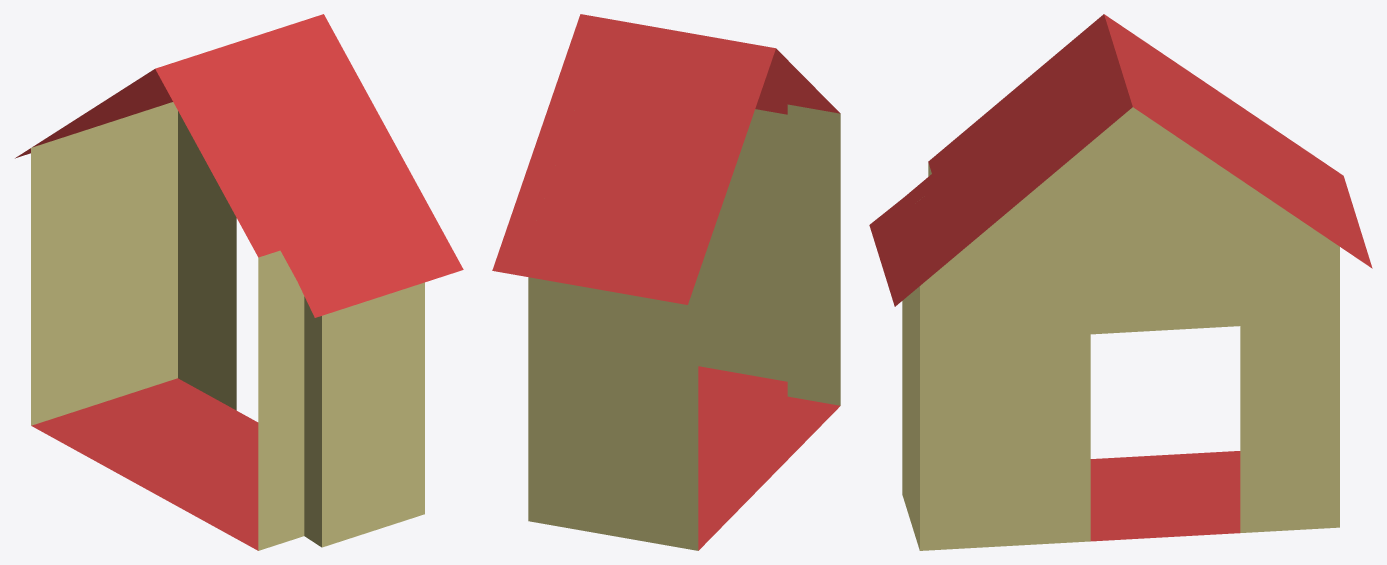
3 renders of one model, left to right at view 1: azimuth 30°, elevation 25°; view 2: azimuth 150°, elevation 25°; view 3: azimuth 270°, elevation 25°, orthographic. The views are drawn at different scales.
Size of the model in its own units: 7.32 by 13.01 by 12.67.
